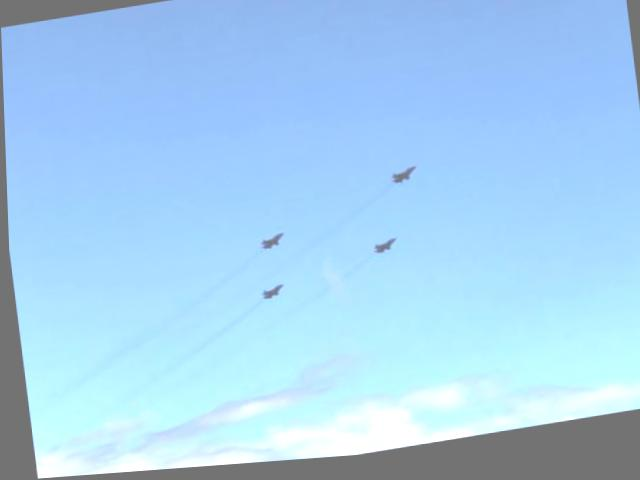flying wing: (254, 229, 289, 262), (385, 166, 414, 197), (366, 240, 398, 266), (255, 285, 288, 304)
